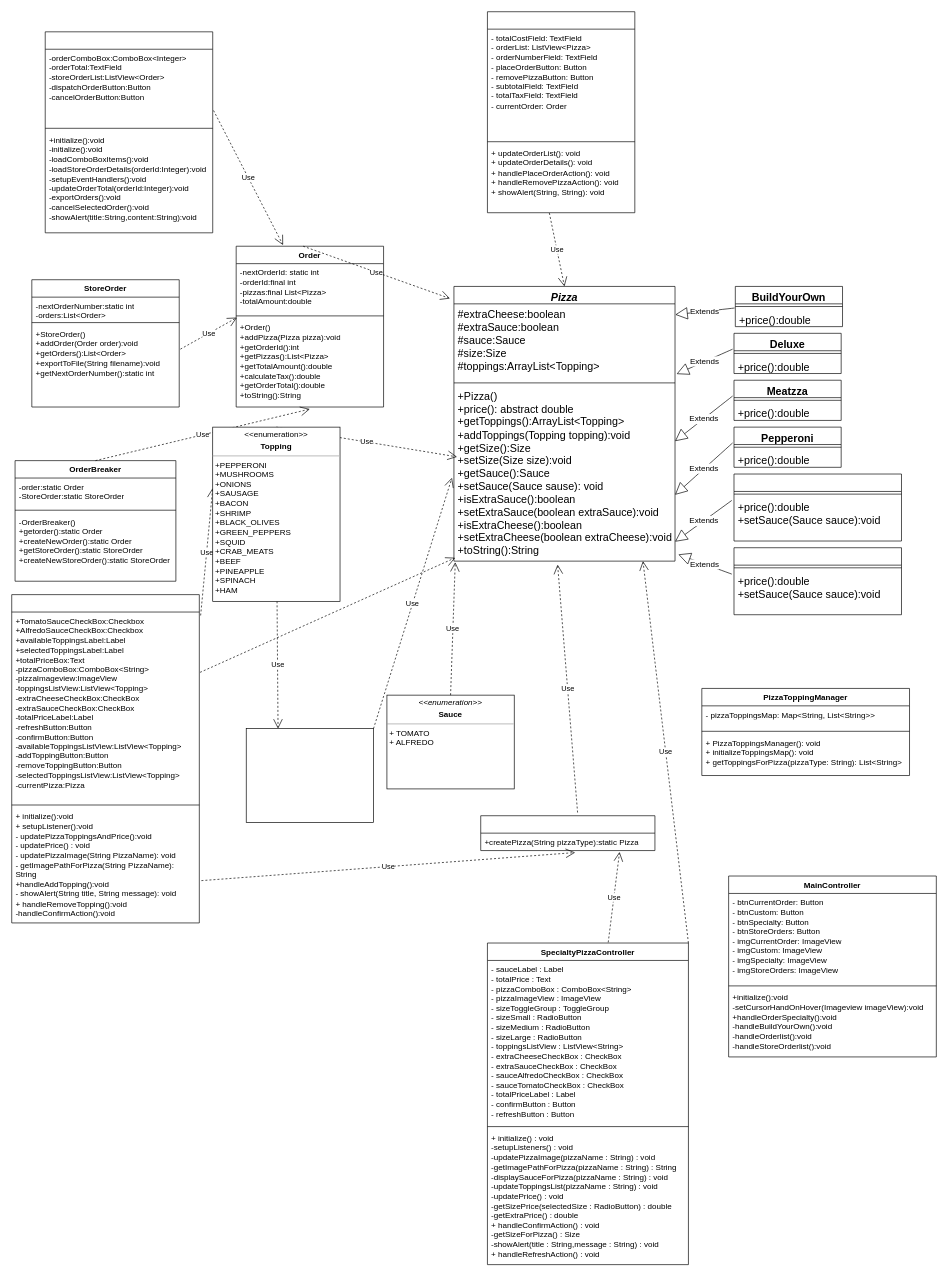
Some shapes in this 948 by 1278 pixel diagram are drawn without their labels. Each missing label, with the box of its shape:
<<enumeration>> Size +SMALL +MEDIUM +LARGE: (246, 728, 374, 822)
BuildYourOwnController: (11, 594, 199, 923)
OrderlistController.java: (487, 11, 635, 213)
PizzaMaker: (480, 815, 655, 851)
Seafood: (733, 473, 901, 541)
StoreOrderController: (45, 31, 213, 233)
Supreme: (733, 547, 901, 615)
